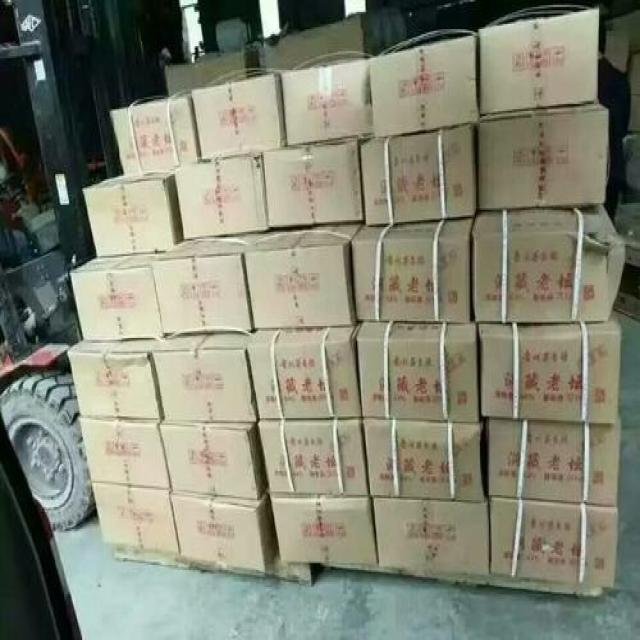Carton: (69, 353, 269, 570), (259, 420, 486, 570), (362, 106, 607, 218), (177, 142, 361, 241), (110, 79, 283, 174), (69, 256, 252, 333), (475, 230, 611, 323), (479, 10, 595, 111), (480, 335, 618, 416), (492, 418, 617, 505), (492, 498, 611, 585), (372, 39, 477, 131), (357, 336, 477, 416), (362, 420, 483, 495), (353, 242, 467, 317), (244, 251, 348, 329), (255, 345, 356, 418), (284, 63, 374, 140), (152, 348, 253, 416), (82, 177, 173, 251), (92, 481, 177, 558)
